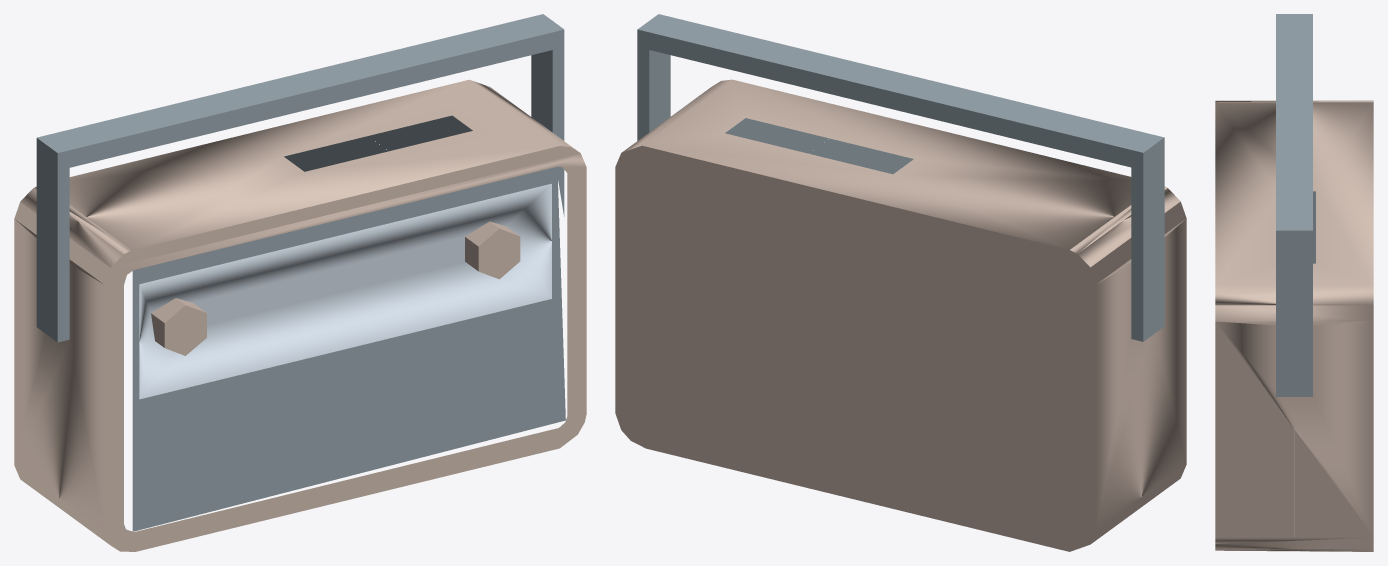
File: radio.glb
3 views of the same model, side by side, from view 1: azimuth 30°, elevation 25°; view 2: azimuth 150°, elevation 25°; view 3: azimuth 270°, elevation 25° (orthographic). The views are drawn at different scales.
Visible parts, largest first — view 1: radio(Clone); view 2: radio(Clone); view 3: radio(Clone).
Boxes of the visible parts, bbox=[...] form: radio(Clone): bbox=[14, 14, 586, 551]; radio(Clone): bbox=[615, 14, 1186, 551]; radio(Clone): bbox=[1215, 14, 1373, 551].
Bounding box in the file's own units: 0.315 × 0.2281 × 0.0974.
